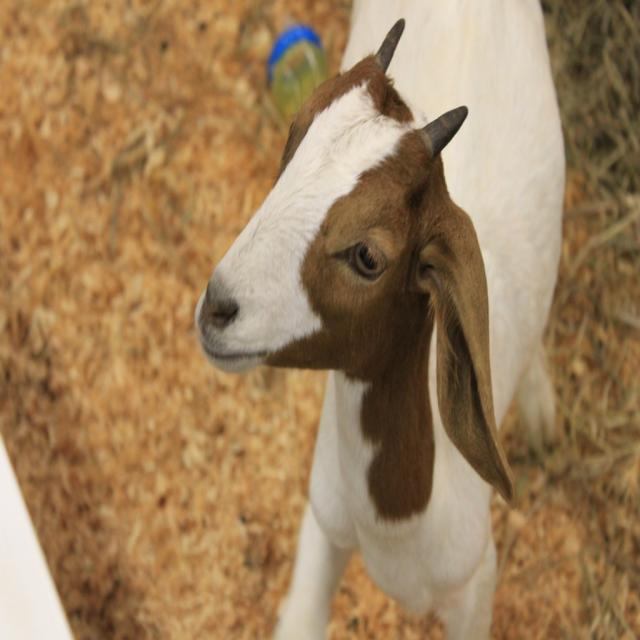Goat: (212, 23, 548, 632)
